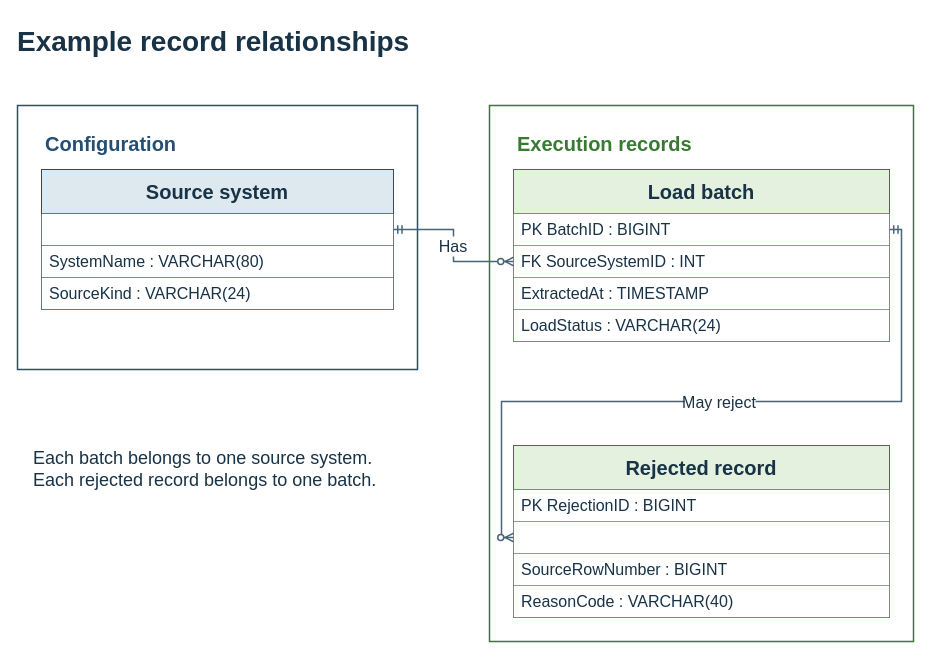
Some shapes in this 932 by 659 pixel diagram are drawn without their labels. The shapes that lost their labels are listed below. From the top down, each one's centre as x and y in pixels, then its label:
At point (217, 229): "PK SourceSystemID : INT".
At point (701, 537): "FK BatchID : BIGINT".
